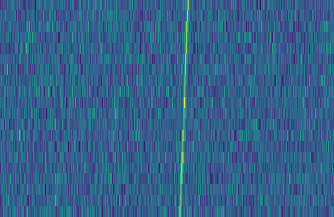signal: (175, 0, 192, 217)
